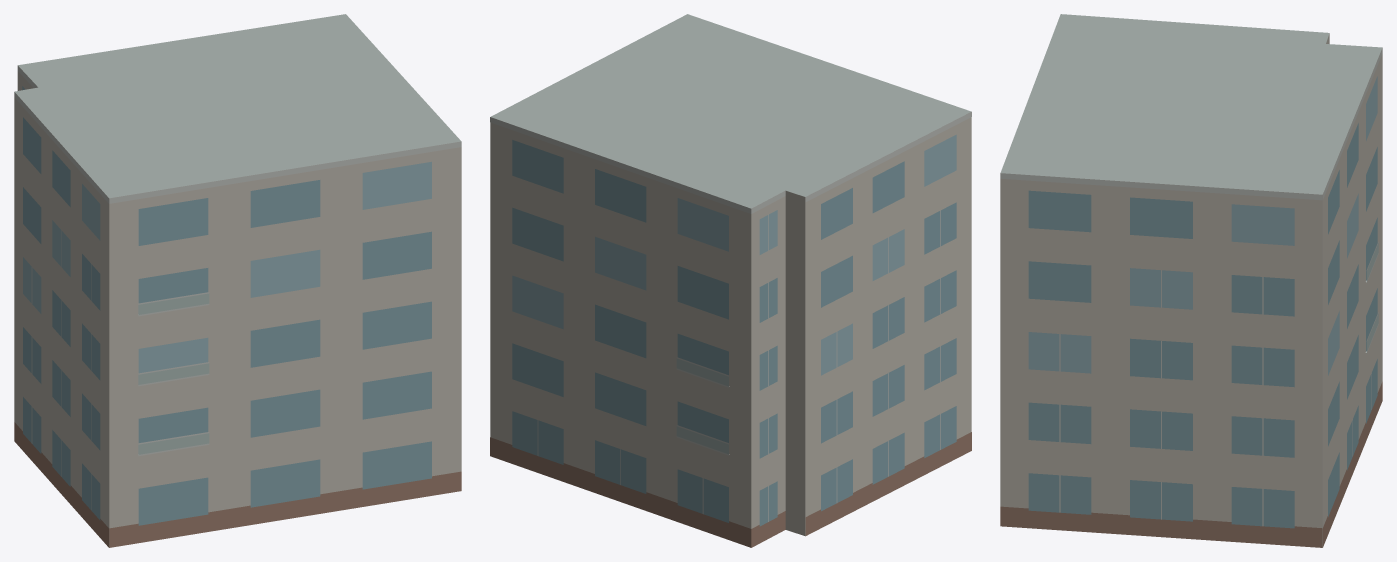
Rendered from survey-upis-32679687.glb.
3 renders of one model, left to right at view 1: azimuth 30°, elevation 25°; view 2: azimuth 150°, elevation 25°; view 3: azimuth 270°, elevation 25°, orthographic. The views are drawn at different scales.
Parts seen in each view (by area): view 1: survey-upis-32679687.tmp; view 2: survey-upis-32679687.tmp; view 3: survey-upis-32679687.tmp.
Boxes of the visible parts, x1,y1,x2,y2 form: survey-upis-32679687.tmp: (14,14,461,547); survey-upis-32679687.tmp: (490,14,971,547); survey-upis-32679687.tmp: (1000,14,1382,547).
Size of the model in its own units: 16.74 by 15.25 by 14.97.
